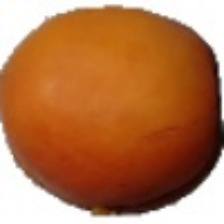apricot: (11, 9, 184, 180)
